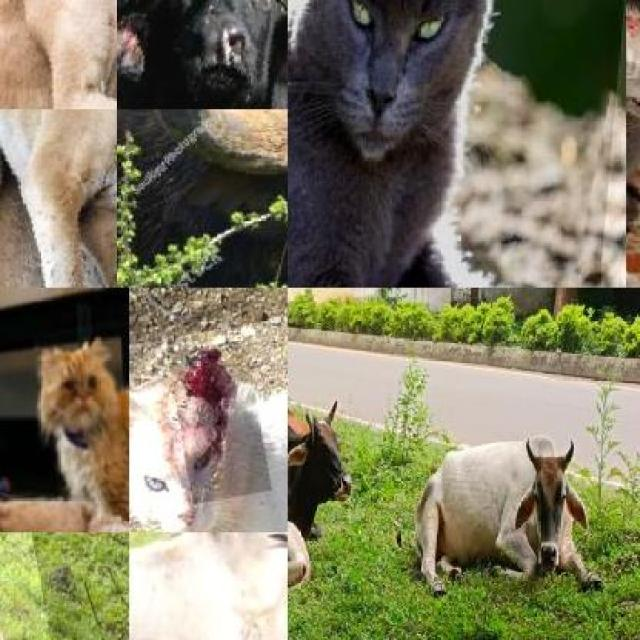buffalo: (117, 109, 288, 288), (117, 0, 288, 109)
cat: (288, 0, 626, 288), (129, 288, 288, 532), (31, 317, 129, 509), (0, 288, 26, 532)
cow: (421, 450, 582, 595), (129, 532, 288, 640), (288, 403, 355, 515)
dog: (0, 109, 117, 288)
injured: (166, 338, 272, 504), (0, 240, 117, 288)
